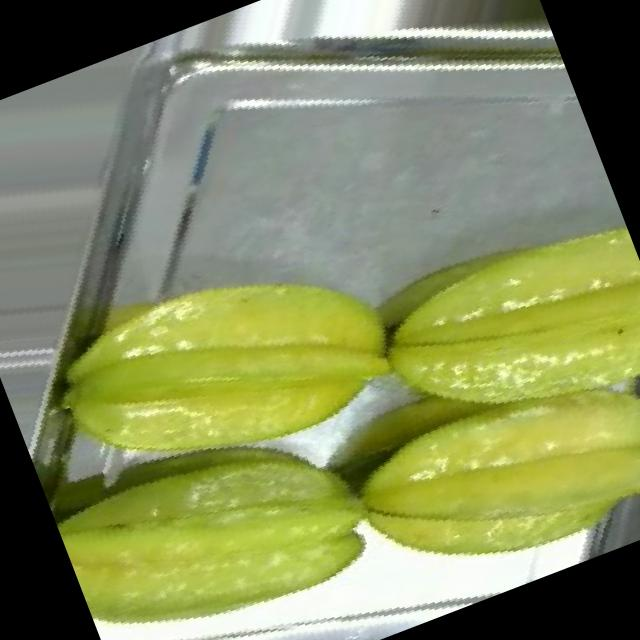fruit: (1, 175, 459, 577), (297, 145, 640, 618), (35, 356, 428, 640), (344, 0, 562, 119)
